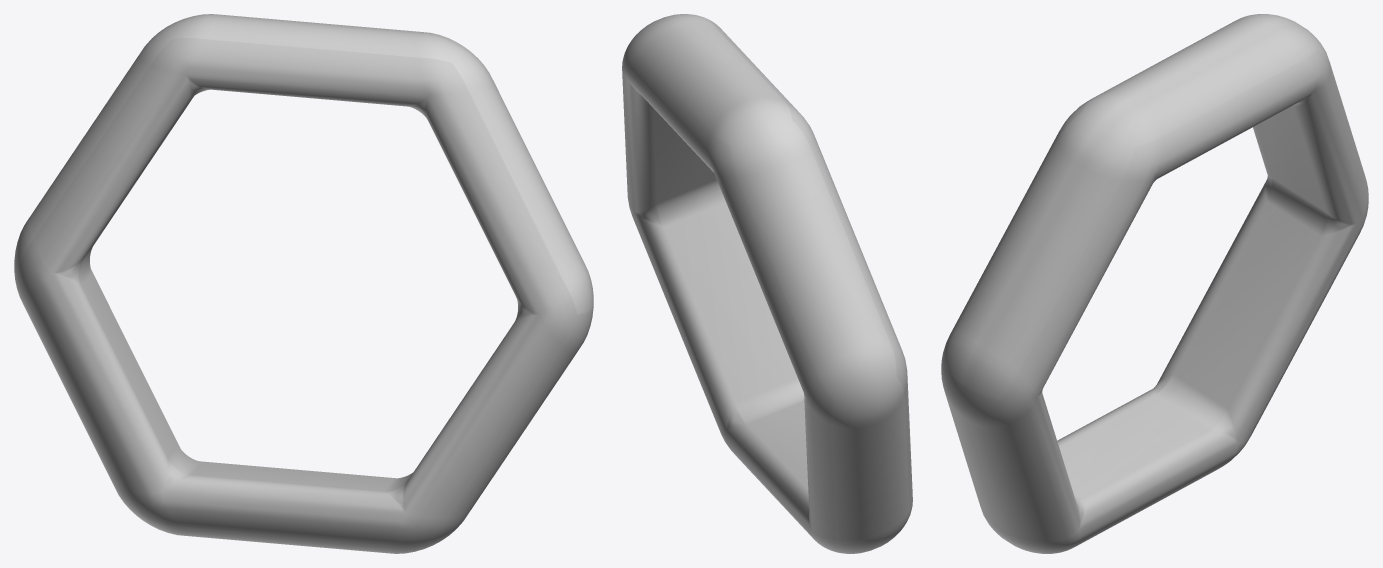
The model's file is NuovoSitoEsagonoMenuSimXSupporto.gltf.
3 views of the same model, side by side, from view 1: azimuth 30°, elevation 25°; view 2: azimuth 150°, elevation 25°; view 3: azimuth 270°, elevation 25° (orthographic). The views are drawn at different scales.
Visible parts, largest first — view 1: Easgono Menu Sim-X 03 - Supporto; view 2: Easgono Menu Sim-X 03 - Supporto; view 3: Easgono Menu Sim-X 03 - Supporto.
Boxes of the visible parts, bbox=[...] form: Easgono Menu Sim-X 03 - Supporto: bbox=[14, 14, 593, 553]; Easgono Menu Sim-X 03 - Supporto: bbox=[622, 14, 912, 553]; Easgono Menu Sim-X 03 - Supporto: bbox=[941, 14, 1368, 553].
Bounding box in the file's own units: 1.26 × 1.36 × 1.09.
Materials: 1 (1 with a texture image).
